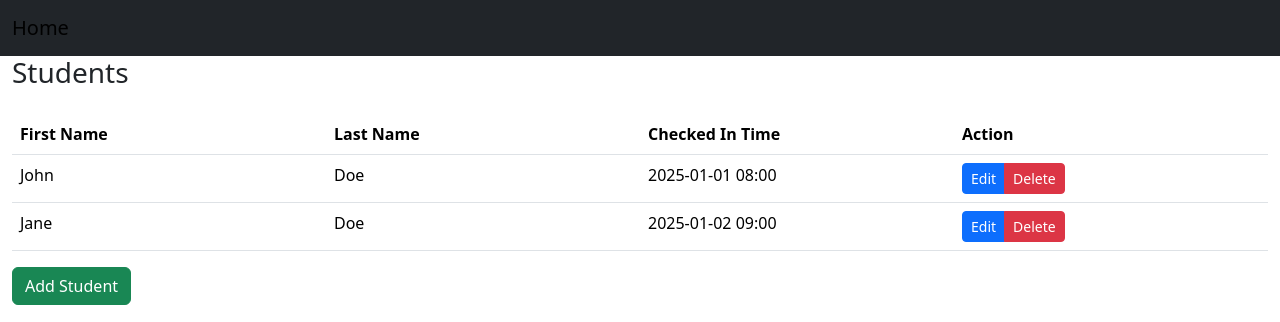
it: StudentList Component › removes a student from the list when delete button is clicked
Expected: the text "John" is shown, [12, 154, 326, 202]
Simulate the click on the delete button
Click the button "Delete" in the row of "John".
click(1034, 178)  # box [1004, 163, 1065, 194]
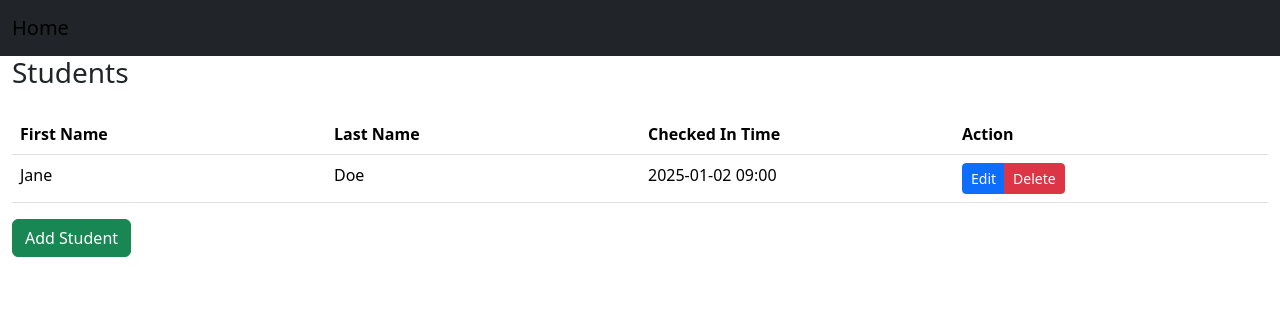
Expected: the text "Jane" is shown, [12, 154, 326, 202]
Expected: the text "John" is gone
